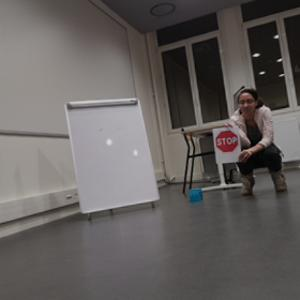stop: (215, 130, 239, 153)
